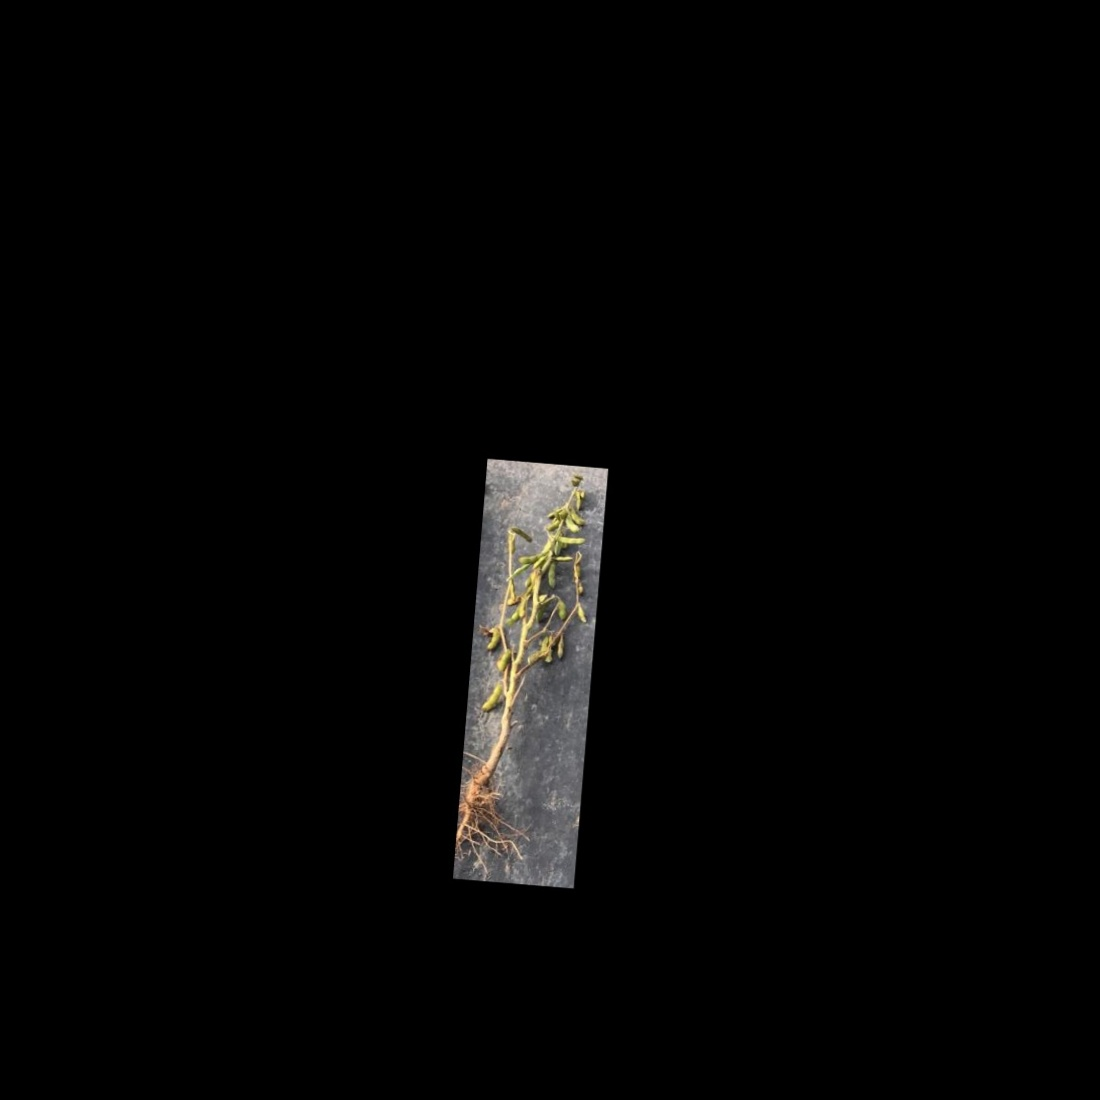pod: (479, 679, 503, 715), (552, 532, 588, 547), (510, 523, 535, 543), (485, 626, 502, 655), (554, 636, 570, 663), (514, 551, 542, 566), (545, 561, 560, 588), (575, 603, 591, 627), (556, 598, 570, 620), (572, 487, 583, 512)
soy: (464, 461, 604, 846)
